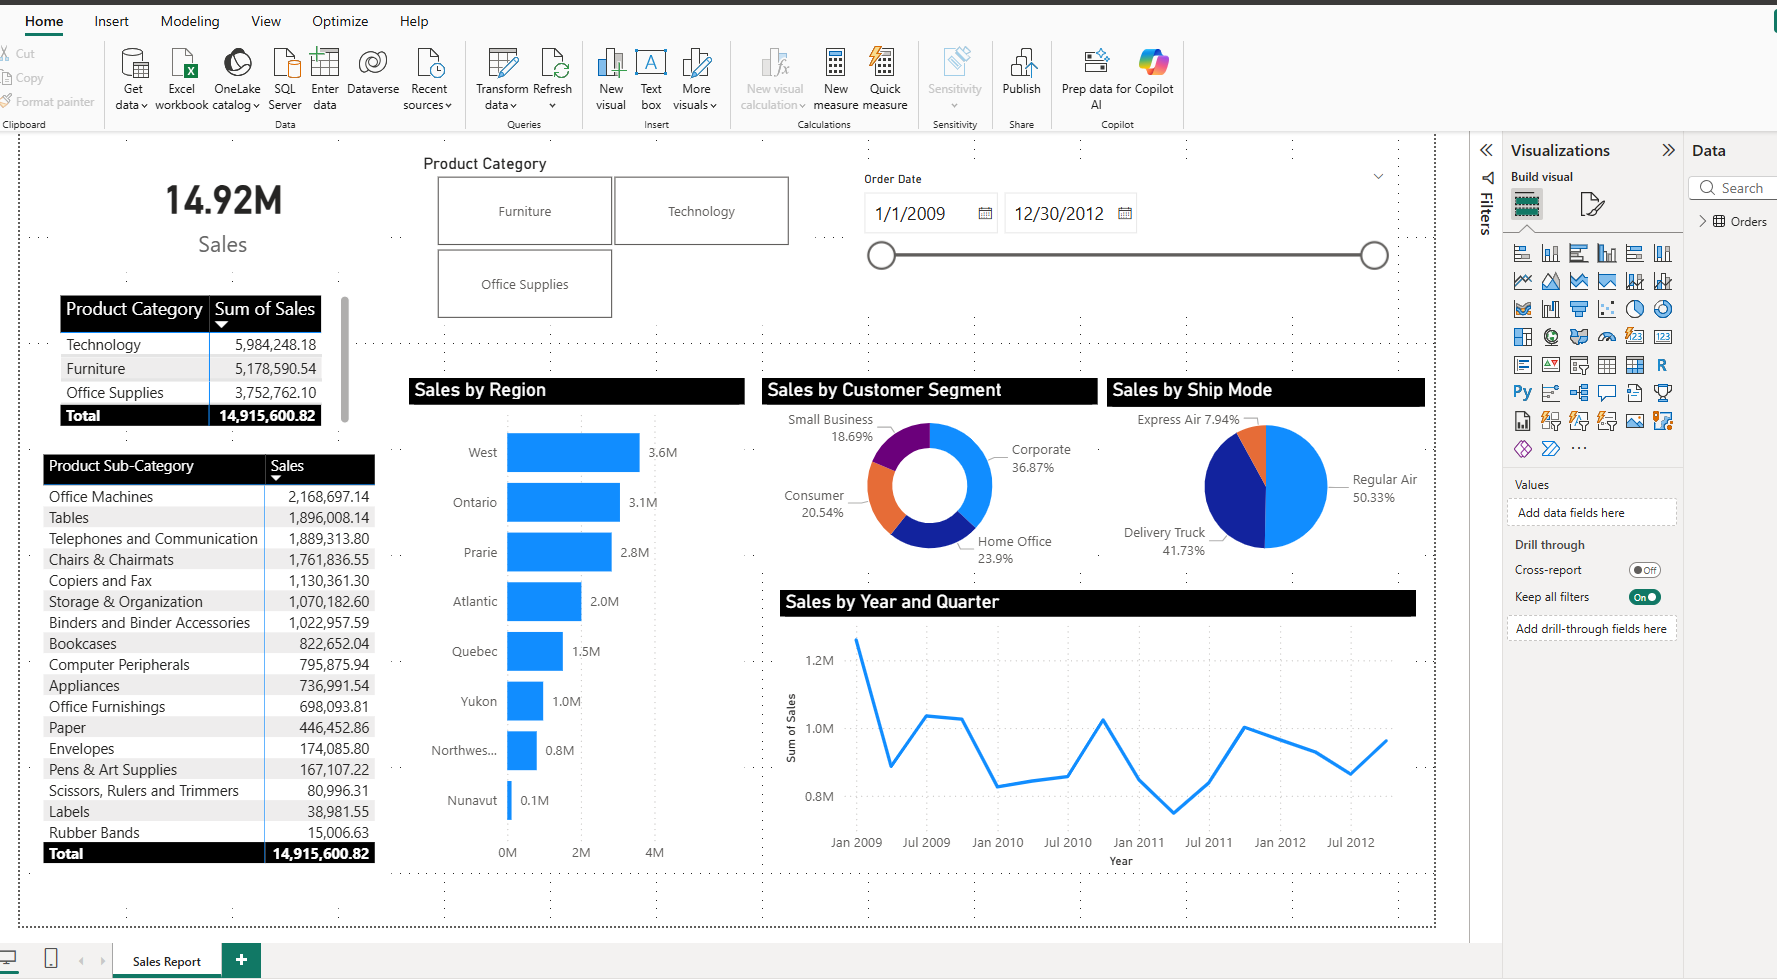

This screenshot's page, from the dashboard's own definition file:
{"tool":"powerbi","page":{"name":"Sales Report","canvas":[1280,720],"ordinal":0},"visuals":[{"type":"card","fields":{"Values":["Sum(Orders.Sales)"]},"box":[32,16,304,112],"z":0},{"type":"clusteredBarChart","title":"Sales by Region","fields":{"Category":["Orders.Region"],"Y":["Sum(Orders.Sales)"]},"box":[352,224,304,448],"z":1},{"type":"pivotTable","fields":{"Rows":["Orders.Product Category"],"Values":["Sum(Orders.Sales)"]},"box":[32,144,272,128],"z":2},{"type":"pivotTable","fields":{"Rows":["Orders.Product Sub-Category"],"Values":["Sum(Orders.Sales)"]},"box":[16,288,320,416],"z":3},{"type":"donutChart","title":"Sales by Customer Segment","fields":{"Category":["Orders.Customer Segment"],"Y":["Sum(Orders.Sales)"]},"box":[672,224,304,176],"z":4},{"type":"pieChart","title":"Sales by Ship Mode","fields":{"Y":["Sum(Orders.Sales)"],"Category":["Orders.Ship Mode"]},"box":[984,224,288,176],"z":5},{"type":"lineChart","title":"Sales by Year and Quarter","fields":{"Category":["Orders.Order Date.Variation.Date Hierarchy.Year","Orders.Order Date.Variation.Date Hierarchy.Quarter"],"Y":["Sum(Orders.Sales)"]},"box":[688,416,576,256],"z":6},{"type":"slicer","fields":{"Values":["Orders.Product Category"]},"box":[352,16,368,160],"z":7},{"type":"slicer","fields":{"Values":["Orders.Order Date"]},"box":[752,32,496,131],"z":8}]}

Visuals, with their boxes on the page's 1280x720 design canvas (x1, y1, x2, y2). These are canvas units, not pixel positions in the 1777x979 screenshot, which may show the page scaled, cropped or inside an application window:
card - Sum(Orders.Sales): crop(32, 16, 336, 128)
"Sales by Region" clusteredBarChart: crop(352, 224, 656, 672)
pivotTable - Orders.Product Category x Sum(Orders.Sales): crop(32, 144, 304, 272)
pivotTable - Orders.Product Sub-Category x Sum(Orders.Sales): crop(16, 288, 336, 704)
"Sales by Customer Segment" donutChart: crop(672, 224, 976, 400)
"Sales by Ship Mode" pieChart: crop(984, 224, 1272, 400)
"Sales by Year and Quarter" lineChart: crop(688, 416, 1264, 672)
slicer - Orders.Product Category: crop(352, 16, 720, 176)
slicer - Orders.Order Date: crop(752, 32, 1248, 163)
